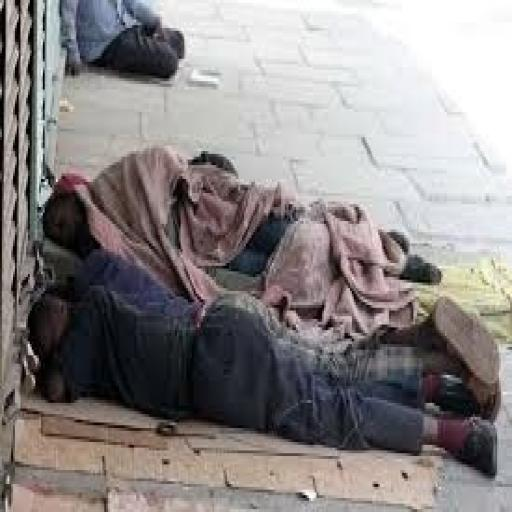sleeping: (24, 143, 505, 478)
